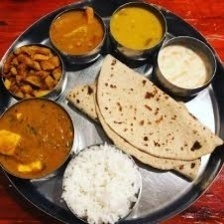dal: (110, 4, 167, 53)
